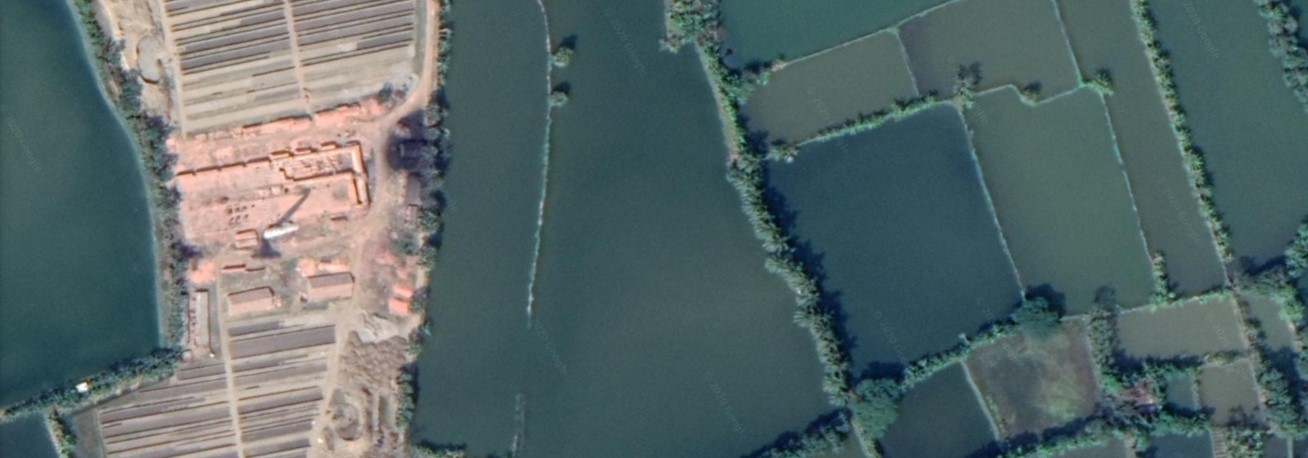kiln: (194, 156, 370, 260)
